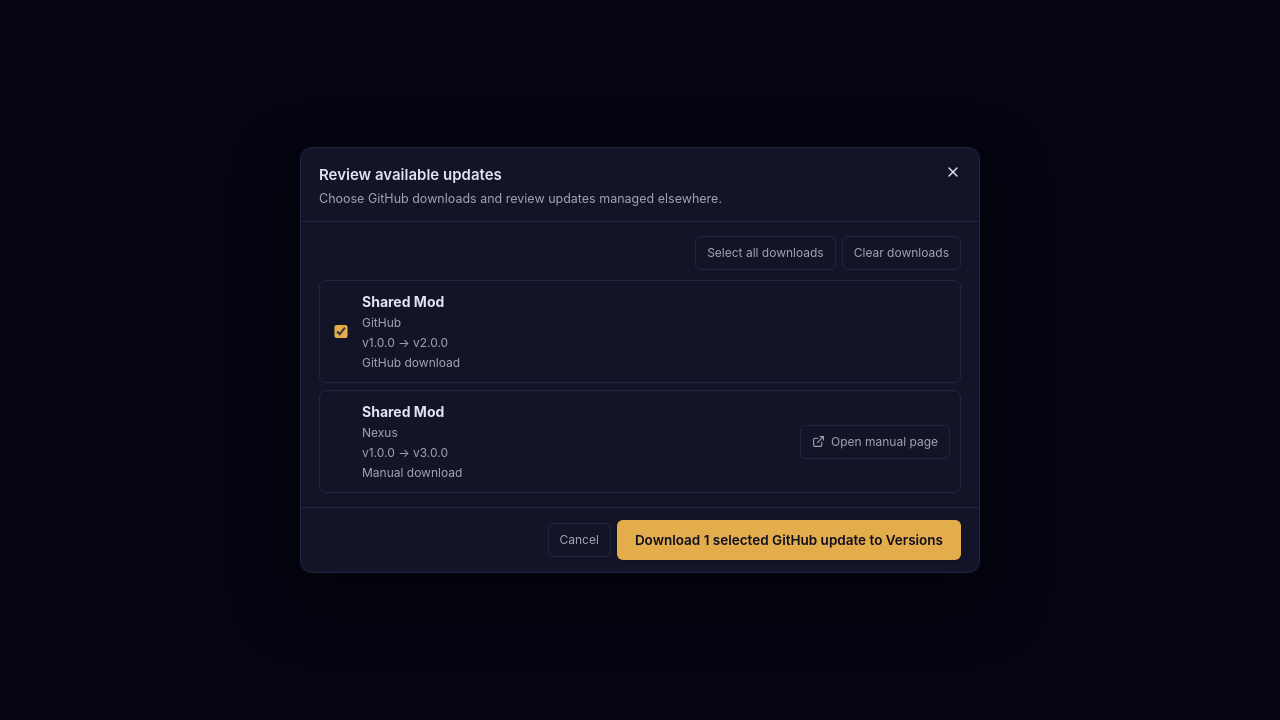
Test: <UpdatePlanSheet> › maps apply results by provider when target identities are shared
Expected: the text "GitHub" is shown once, [362,315,401,330]
Expected: the text "Nexus" is shown once, [362,425,398,440]
Click the button "Download 1 selected GitHub update to Versions": (789, 540) [617,520,961,560]
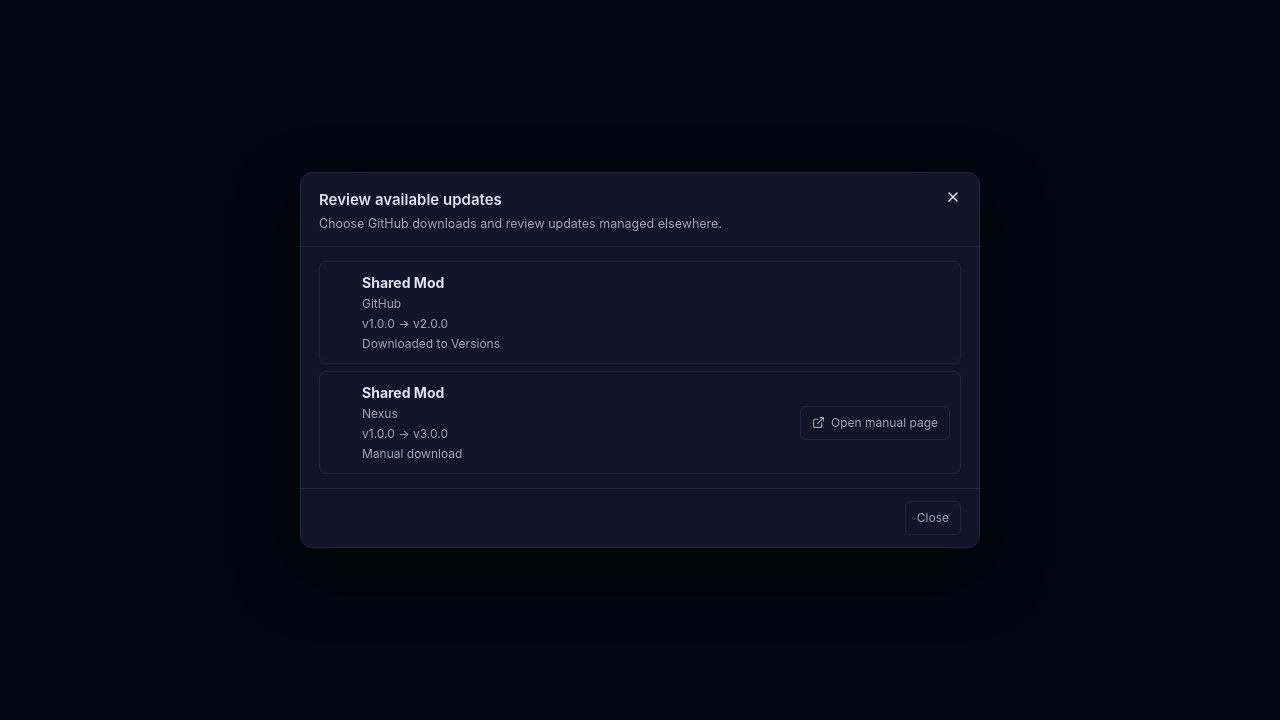
Expected: the text "Manual download" is shown, [362,446,462,461]
Result: the text "Downloaded to Versions" is shown at [362,336,500,351]
